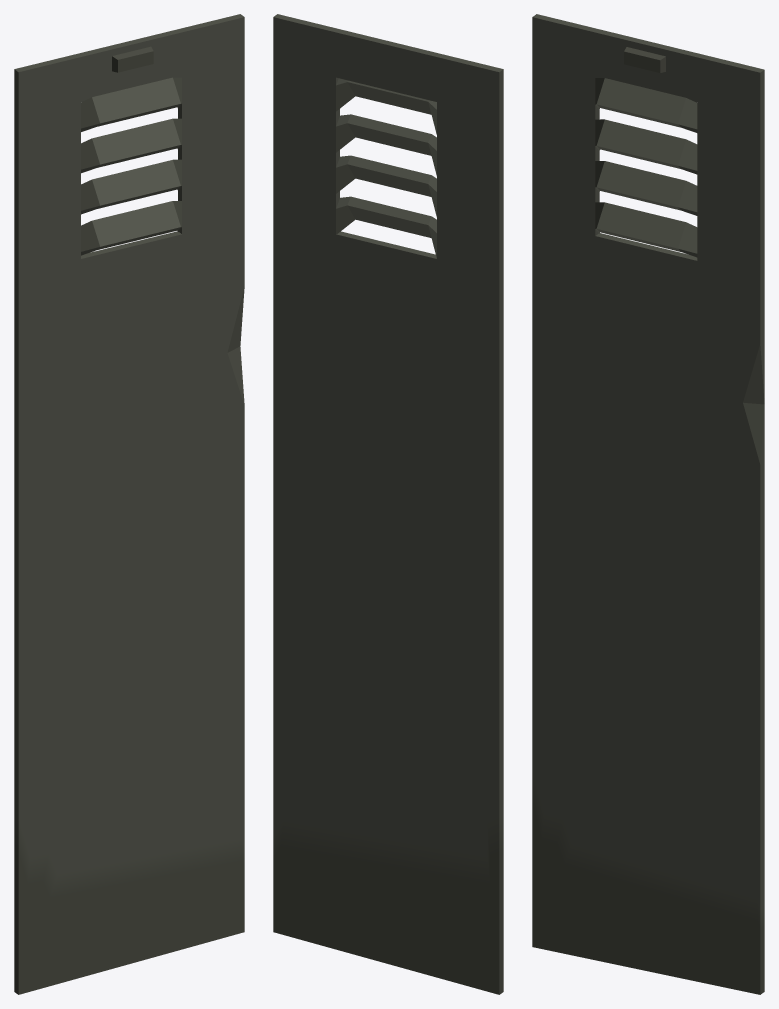
File: SM_Prop_Locker_Door_01.fbx
The picture shows the model from 3 angles, left to right: view 1: azimuth 30°, elevation 25°; view 2: azimuth 150°, elevation 25°; view 3: azimuth 330°, elevation 25°; orthographic projection.
Visible parts, largest first — view 1: SM_Prop_Locker_Door_01; view 2: SM_Prop_Locker_Door_01; view 3: SM_Prop_Locker_Door_01.
Part boxes in pixels (x1,y1,x2,y2): SM_Prop_Locker_Door_01: (14,14,244,994); SM_Prop_Locker_Door_01: (273,14,503,994); SM_Prop_Locker_Door_01: (532,14,764,994).
Bounding box in the file's own units: 57.55 × 224 × 5.83.
